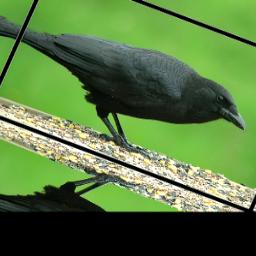Crow: (0, 5, 256, 189)
